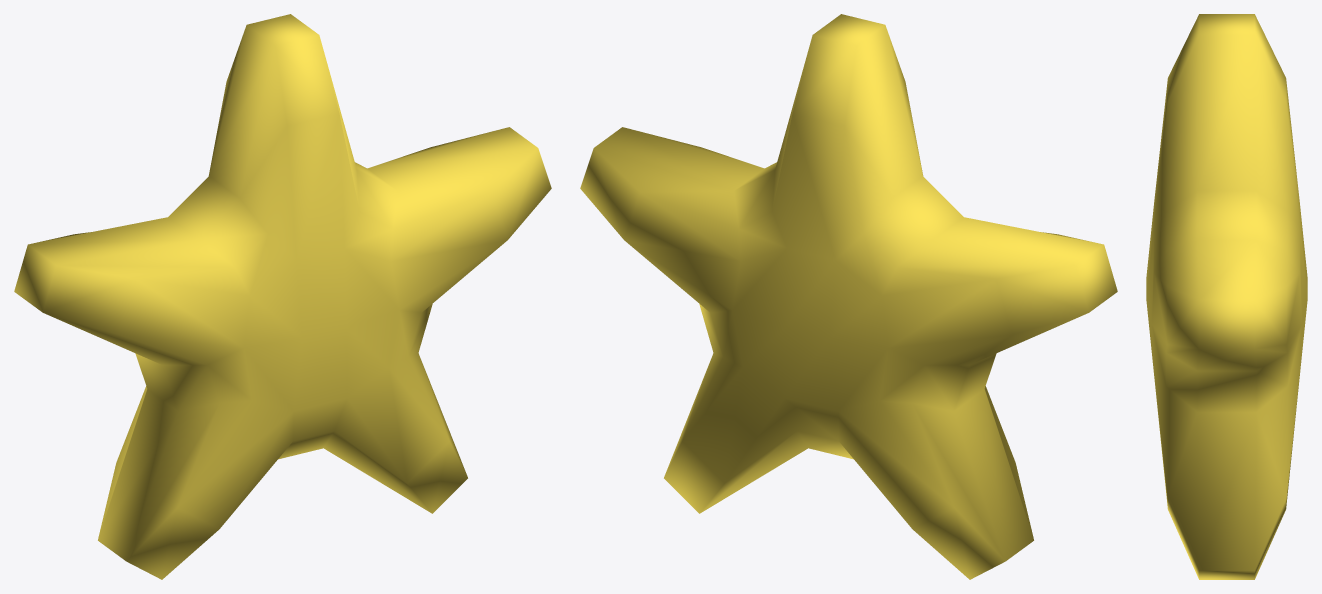
Rendered from Sea_star_1.fbx.
3 views of the same model, side by side, from view 1: azimuth 30°, elevation 25°; view 2: azimuth 150°, elevation 25°; view 3: azimuth 270°, elevation 25° (orthographic). The views are drawn at different scales.
Parts seen in each view (by area): view 1: Sea_star_1; view 2: Sea_star_1; view 3: Sea_star_1.
Boxes of the visible parts, x1,y1,x2,y2 form: Sea_star_1: [14, 14, 551, 579]; Sea_star_1: [580, 14, 1117, 579]; Sea_star_1: [1146, 14, 1307, 579].
Bounding box in the file's own units: 0.8906 × 0.847 × 0.252.
